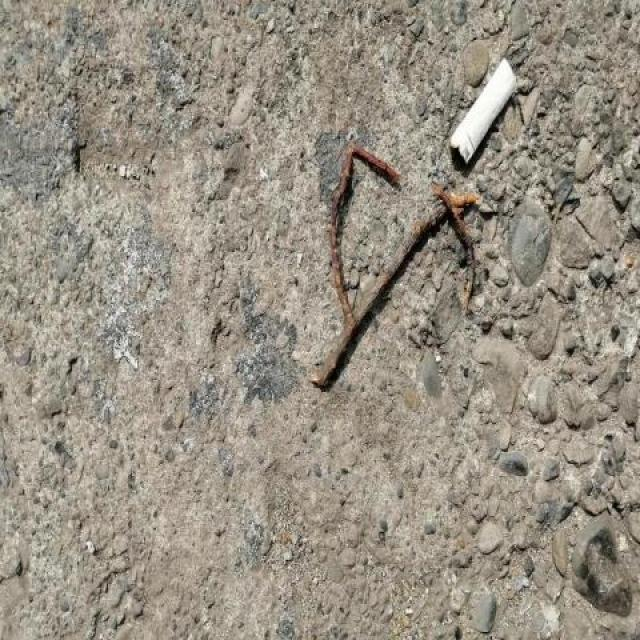non-organic waste: (444, 51, 521, 170)
